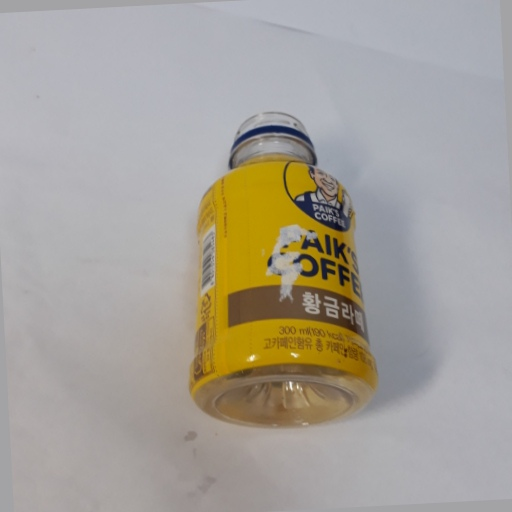Plastic_0: (184, 108, 384, 435)
